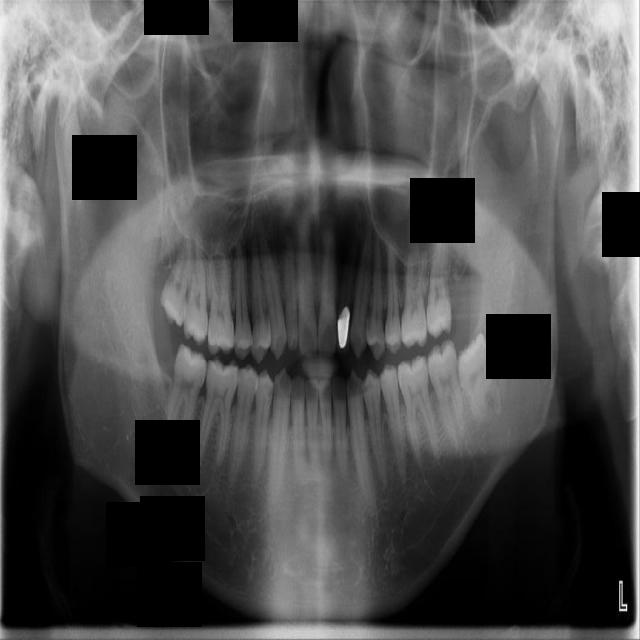3M ESPE Implant: (157, 224, 195, 329)
52: (335, 305, 351, 354)
73: (610, 574, 614, 586)
BioHorizons Implant: (425, 220, 456, 341)
Biomet 3i Implant: (448, 332, 510, 429)
Blue Sky Bio Implant: (424, 338, 471, 453)
Caries: (182, 217, 209, 347)
Implant: (161, 341, 211, 459)
